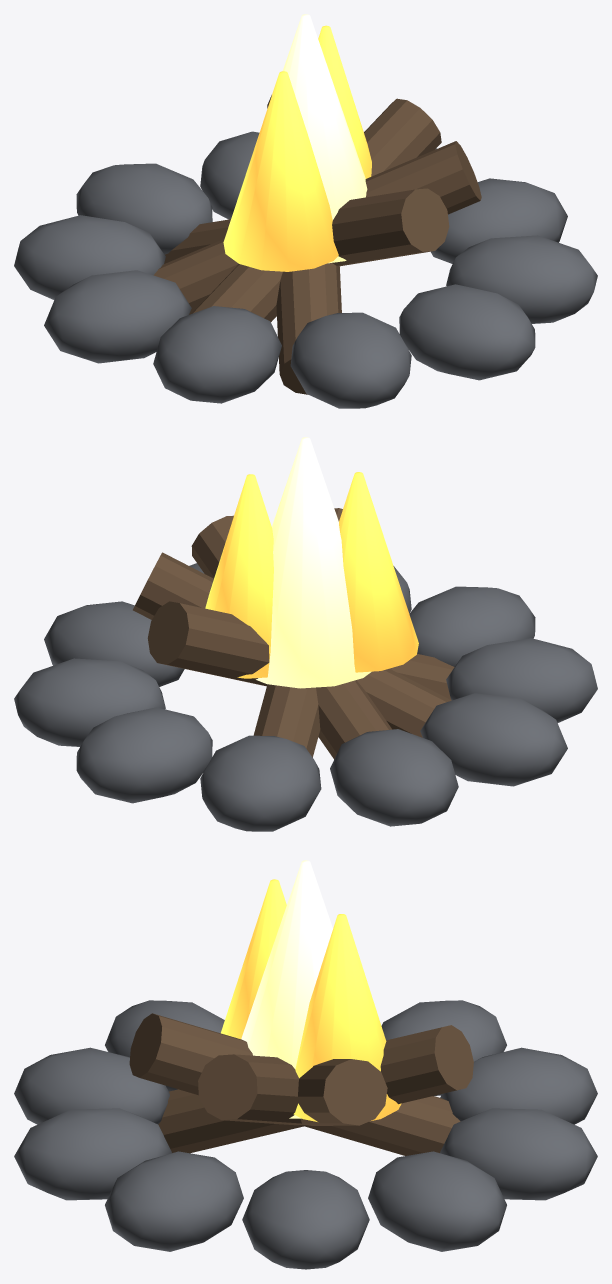
File: Prop_CampfireRing_Hybrid.glb
The picture shows the model from 3 angles, top to bottom: view 1: azimuth 30°, elevation 25°; view 2: azimuth 150°, elevation 25°; view 3: azimuth 270°, elevation 25°; orthographic projection. The views are drawn at different scales.
Parts seen in each view (by area): view 1: Cone.002, Icosphere.008, Icosphere.005, Icosphere.006, Icosphere.007, Icosphere.009, Cylinder, Icosphere.004, Icosphere.003, Cone, Cylinder.001, Cylinder.002 (+4 smaller); view 2: Cone, Icosphere.002, Icosphere.005, Icosphere.004, Cone.002, Icosphere.003, Icosphere.001, Cylinder.003, Icosphere.006, Cone.001, Icosphere.007, Cylinder.002 (+3 smaller); view 3: Icosphere.001, Icosphere.009, Cylinder, Icosphere.002, Icosphere.008, Icosphere, Cylinder.003, Cone, Cone.001, Icosphere.007, Icosphere.003, Cylinder.001 (+4 smaller).
Part boxes in pixels (<box>): Cone.002: <box>223,71,338,271</box>; Icosphere.008: <box>399,284,535,380</box>; Icosphere.005: <box>44,270,191,363</box>; Icosphere.006: <box>153,306,281,403</box>; Icosphere.007: <box>290,312,411,408</box>; Icosphere.009: <box>446,235,597,323</box>; Cylinder: <box>164,188,449,266</box>; Icosphere.004: <box>14,215,165,299</box>; Icosphere.003: <box>76,163,212,254</box>; Cone: <box>282,14,367,263</box>; Cylinder.001: <box>153,141,481,314</box>; Cylinder.002: <box>192,98,441,321</box>; Cone: <box>256,437,371,688</box>; Icosphere.002: <box>76,707,212,803</box>; Icosphere.005: <box>420,693,567,786</box>; Icosphere.004: <box>330,729,458,826</box>; Cone.002: <box>339,472,418,672</box>; Icosphere.003: <box>200,735,321,831</box>; Icosphere.001: <box>14,658,165,746</box>; Cylinder.003: <box>147,601,454,699</box>; Icosphere.006: <box>446,638,597,722</box>; Cone.001: <box>205,474,273,678</box>; Icosphere.007: <box>409,586,535,666</box>; Cylinder.002: <box>133,552,451,737</box>; Icosphere.001: <box>368,1151,506,1251</box>; Icosphere.009: <box>105,1151,243,1251</box>; Cylinder: <box>129,1013,460,1155</box>; Icosphere.002: <box>440,1108,597,1200</box>; Icosphere.008: <box>14,1108,171,1200</box>; Icosphere: <box>242,1170,369,1269</box>; Cylinder.003: <box>158,1025,473,1153</box>; Cone: <box>241,860,332,1118</box>; Cone.001: <box>293,914,401,1121</box>; Icosphere.007: <box>14,1047,169,1124</box>; Icosphere.003: <box>440,1047,597,1124</box>; Cylinder.001: <box>198,1054,303,1125</box>.
Size of the model in its own units: 1.34 by 0.8034 by 1.3.
